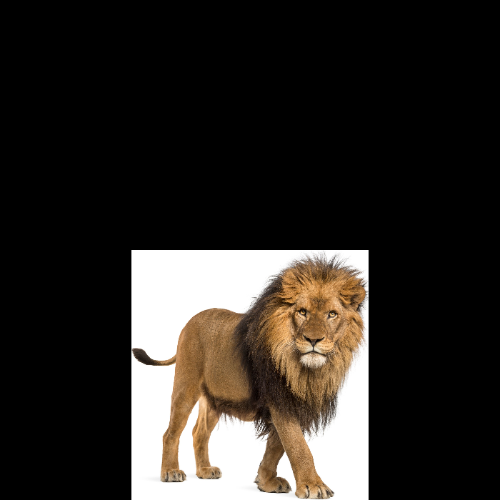lion: (173, 235, 354, 496)
